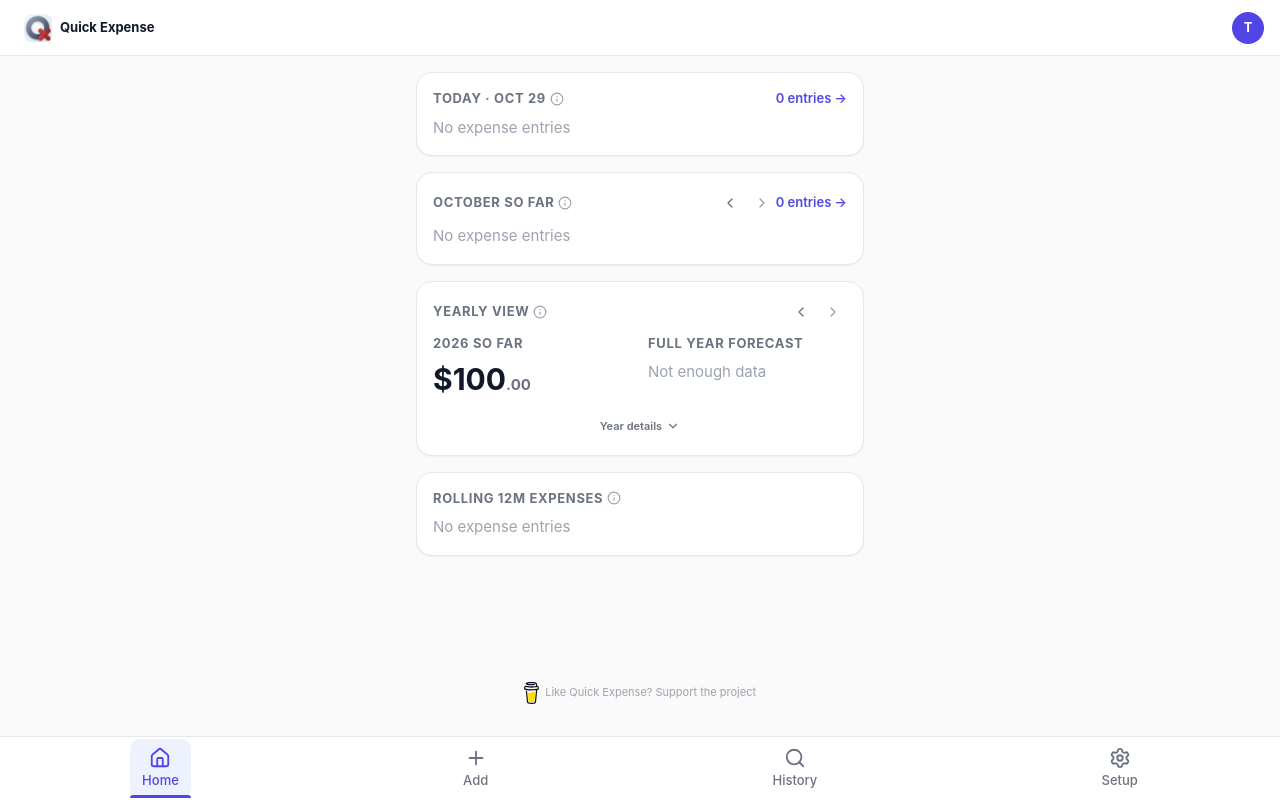
Test: HomePage — Year details expand › shows a spinner instead of 'No data' when opened for the current year before the dataset finishes its initial load
The width and height of the screenshot is (1280, 800).
Check: the button named "Previous year" is shown, box left=787, top=298, right=815, bottom=326
Click the button "Year details".
click(640, 426)  # box left=433, top=414, right=847, bottom=438
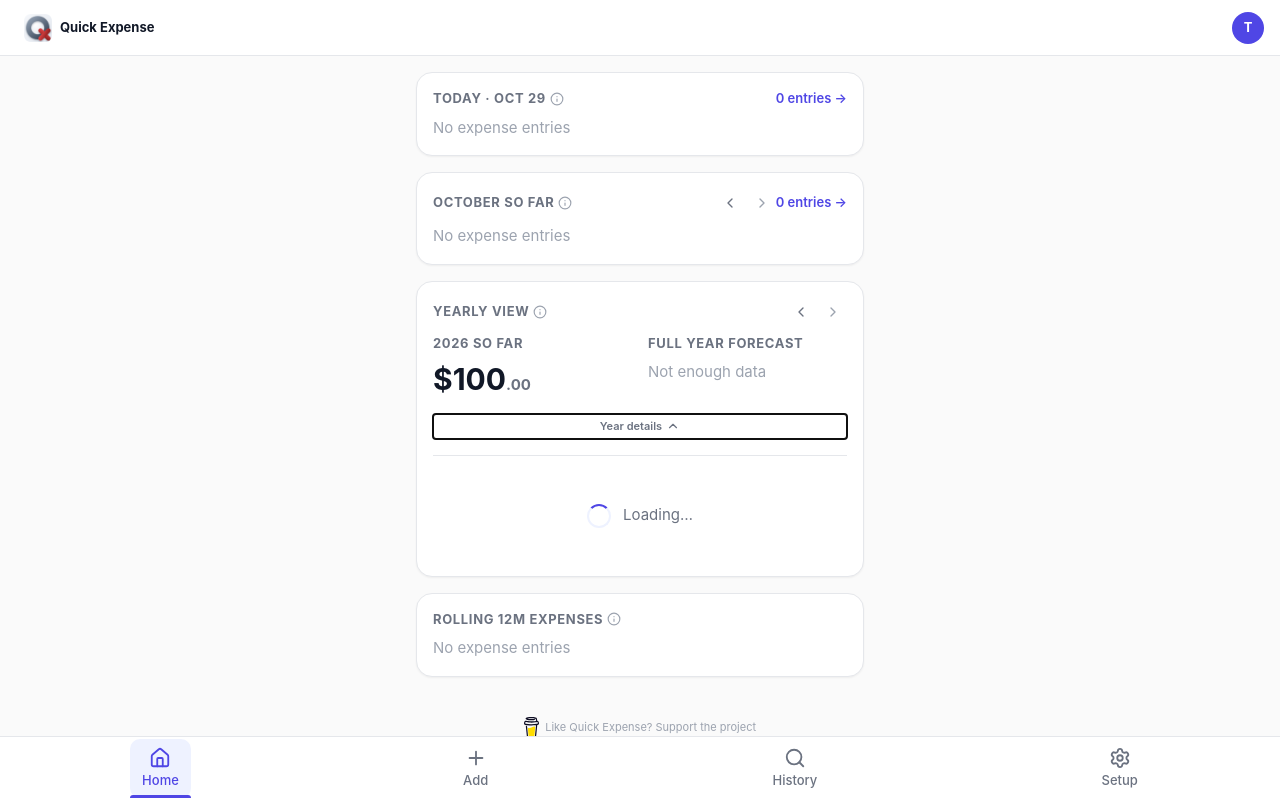
Check: the text "Loading…" is shown, box left=623, top=504, right=693, bottom=527
